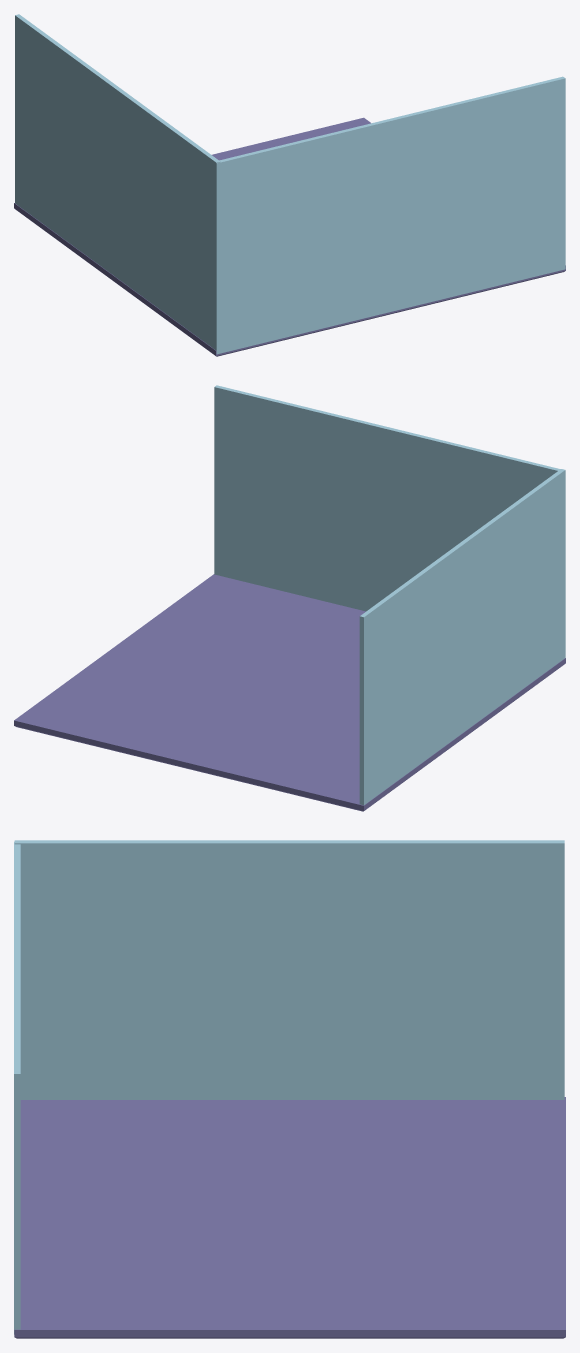
Rendered from The_wok.fbx.
The picture shows the model from 3 angles, top to bottom: view 1: azimuth 30°, elevation 25°; view 2: azimuth 150°, elevation 25°; view 3: azimuth 270°, elevation 25°; orthographic projection. The views are drawn at different scales.
Visible parts, largest first — view 1: puzzles:pCube4; view 2: puzzles:pCube4; view 3: puzzles:pCube4.
Boxes of the visible parts, left/top/right/bottom form: puzzles:pCube4: left=14, top=14, right=565, bottom=356; puzzles:pCube4: left=14, top=385, right=565, bottom=811; puzzles:pCube4: left=14, top=840, right=565, bottom=1338.
Bounding box in the file's own units: 23.07 × 12.28 × 23.08.
